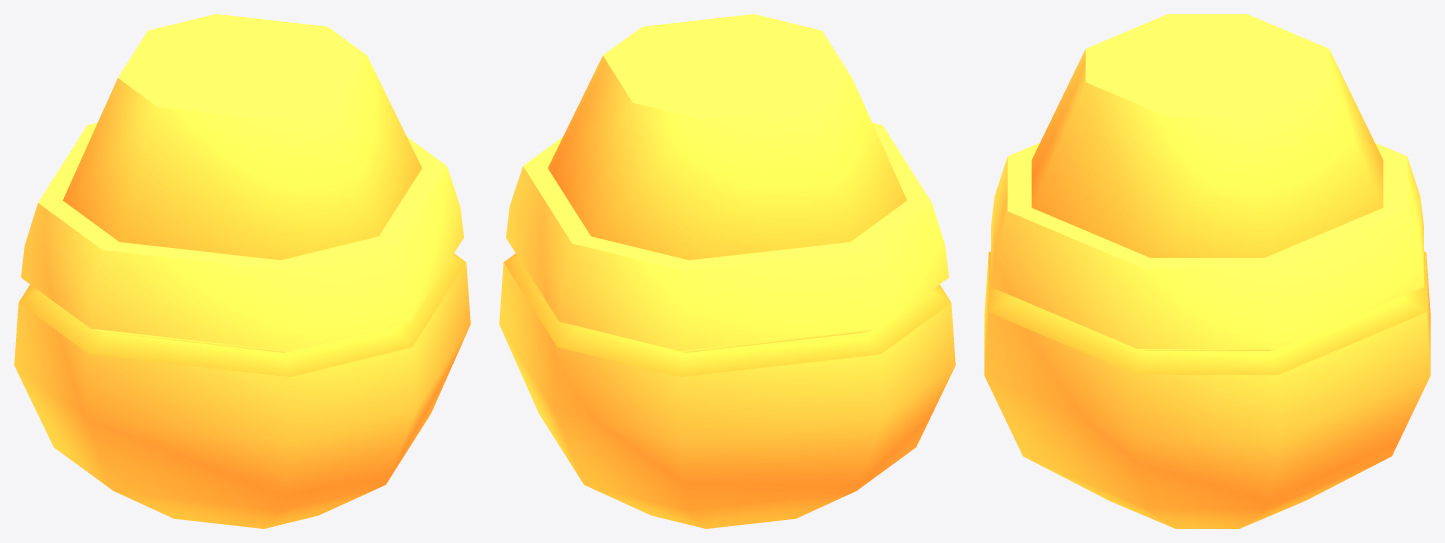
File: gold_pommel_018.glb
3 views of the same model, side by side, from view 1: azimuth 30°, elevation 25°; view 2: azimuth 150°, elevation 25°; view 3: azimuth 270°, elevation 25° (orthographic).
Visible parts, largest first — view 1: gold_pommel_018; view 2: gold_pommel_018; view 3: gold_pommel_018.
Part boxes in pixels (<box>): gold_pommel_018: <box>14,14,470,528</box>; gold_pommel_018: <box>499,14,955,528</box>; gold_pommel_018: <box>984,14,1430,528</box>.
Size of the model in its own units: 2.07 by 2.16 by 2.07.
Materials: 1 (1 with a texture image).
